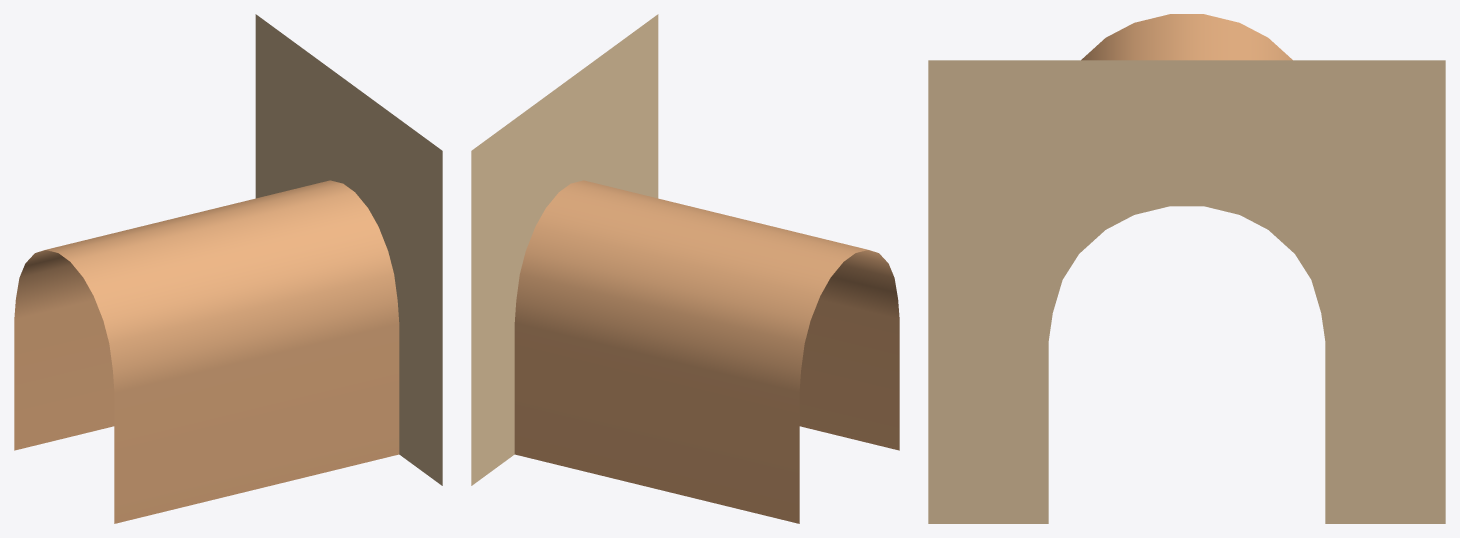
File: SM_cave_1.fbx
The picture shows the model from 3 angles, left to right: view 1: azimuth 30°, elevation 25°; view 2: azimuth 150°, elevation 25°; view 3: azimuth 270°, elevation 25°; orthographic projection. The views are drawn at different scales.
Parts seen in each view (by area): view 1: SM_cave_4; view 2: SM_cave_4; view 3: SM_cave_4.
Part boxes in pixels (box(x1,y1,x2,y2)): SM_cave_4: box(14, 14, 442, 523); SM_cave_4: box(471, 14, 899, 523); SM_cave_4: box(928, 14, 1445, 523).
Size of the model in its own units: 1260 by 1418 by 1433.
1 material, 1 textured.
